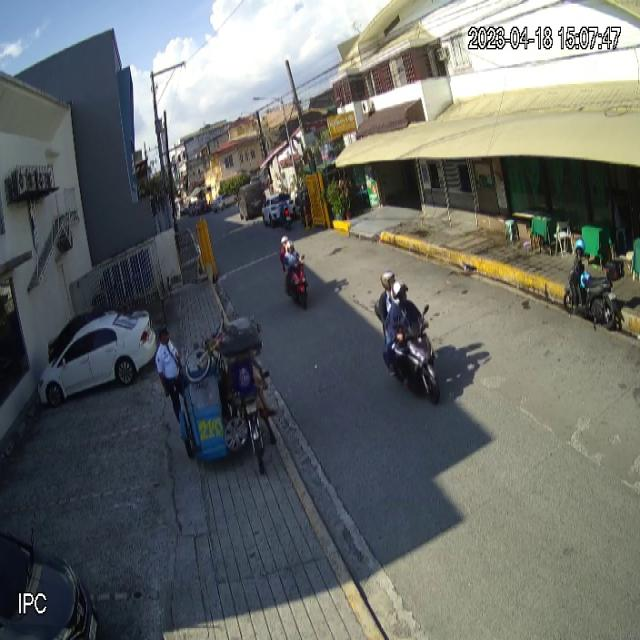Car: (38, 313, 157, 405)
Motorcycle: (564, 249, 625, 331), (396, 304, 441, 402)
Tricycle: (179, 316, 267, 474)
